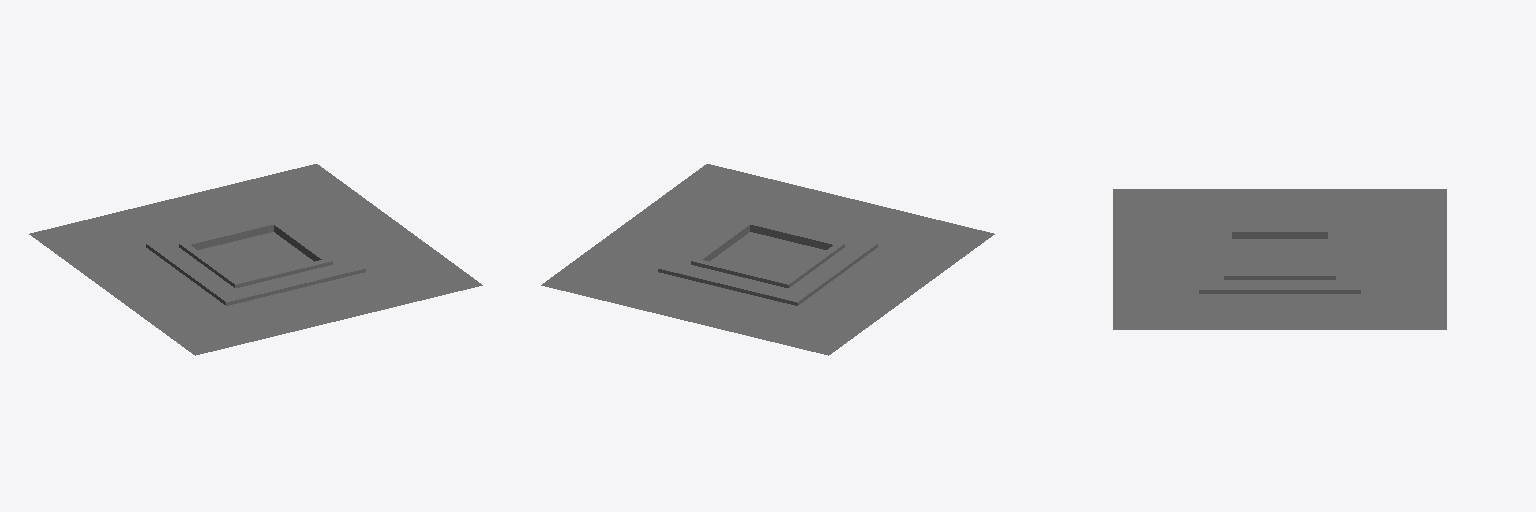
Rendered from Board.obj.
The picture shows the model from 3 angles: view 1: azimuth 30°, elevation 25°; view 2: azimuth 150°, elevation 25°; view 3: azimuth 270°, elevation 25°; orthographic projection.
Visible parts, largest first — view 1: Board; view 2: Board; view 3: Board.
Part boxes in pixels (x1,y1,x2,y2): Board: (29, 164, 482, 355); Board: (541, 164, 994, 355); Board: (1113, 189, 1446, 329).
Bounding box in the file's own units: 41.39 × 1 × 41.39.